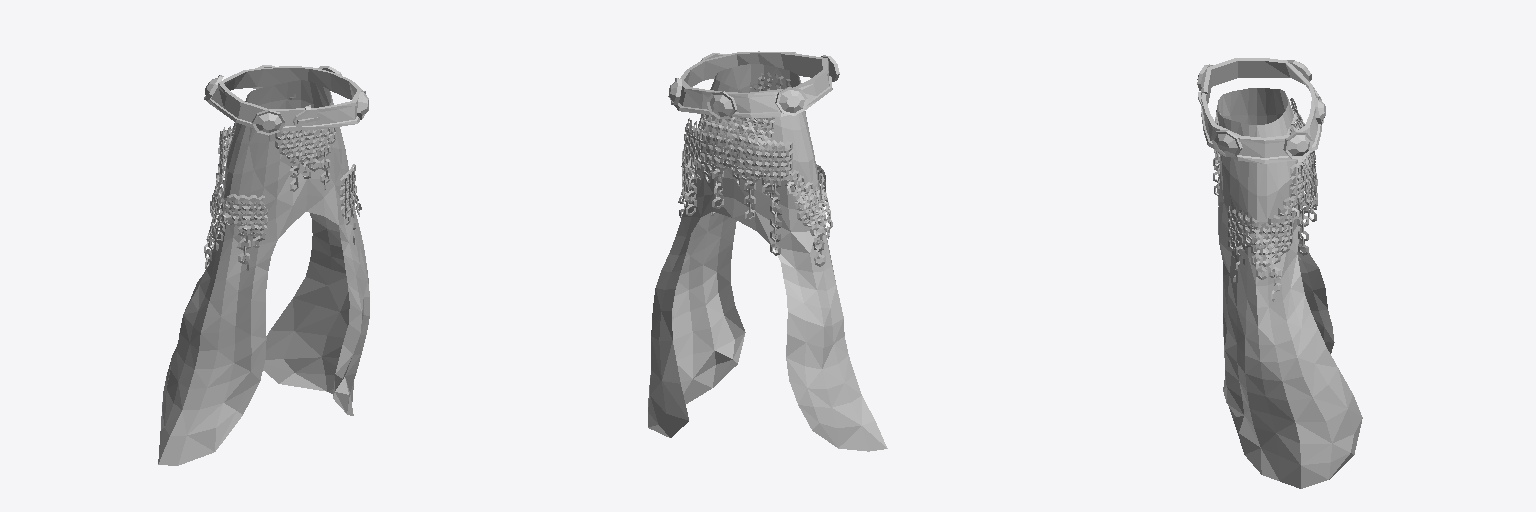
Rendered from Knight_Skirt.obj.
3 views of the same model, side by side, from view 1: azimuth 30°, elevation 25°; view 2: azimuth 150°, elevation 25°; view 3: azimuth 270°, elevation 25° (orthographic).
Parts seen in each view (by area): view 1: SkirtFBXASC046001 group1; view 2: SkirtFBXASC046001 group1; view 3: SkirtFBXASC046001 group1.
Boxes of the visible parts, x1,y1,x2,y2 form: SkirtFBXASC046001 group1: [158, 65, 369, 465]; SkirtFBXASC046001 group1: [648, 51, 887, 451]; SkirtFBXASC046001 group1: [1197, 58, 1362, 488].
Size of the model in its own units: 0.9032 by 1.44 by 0.595.